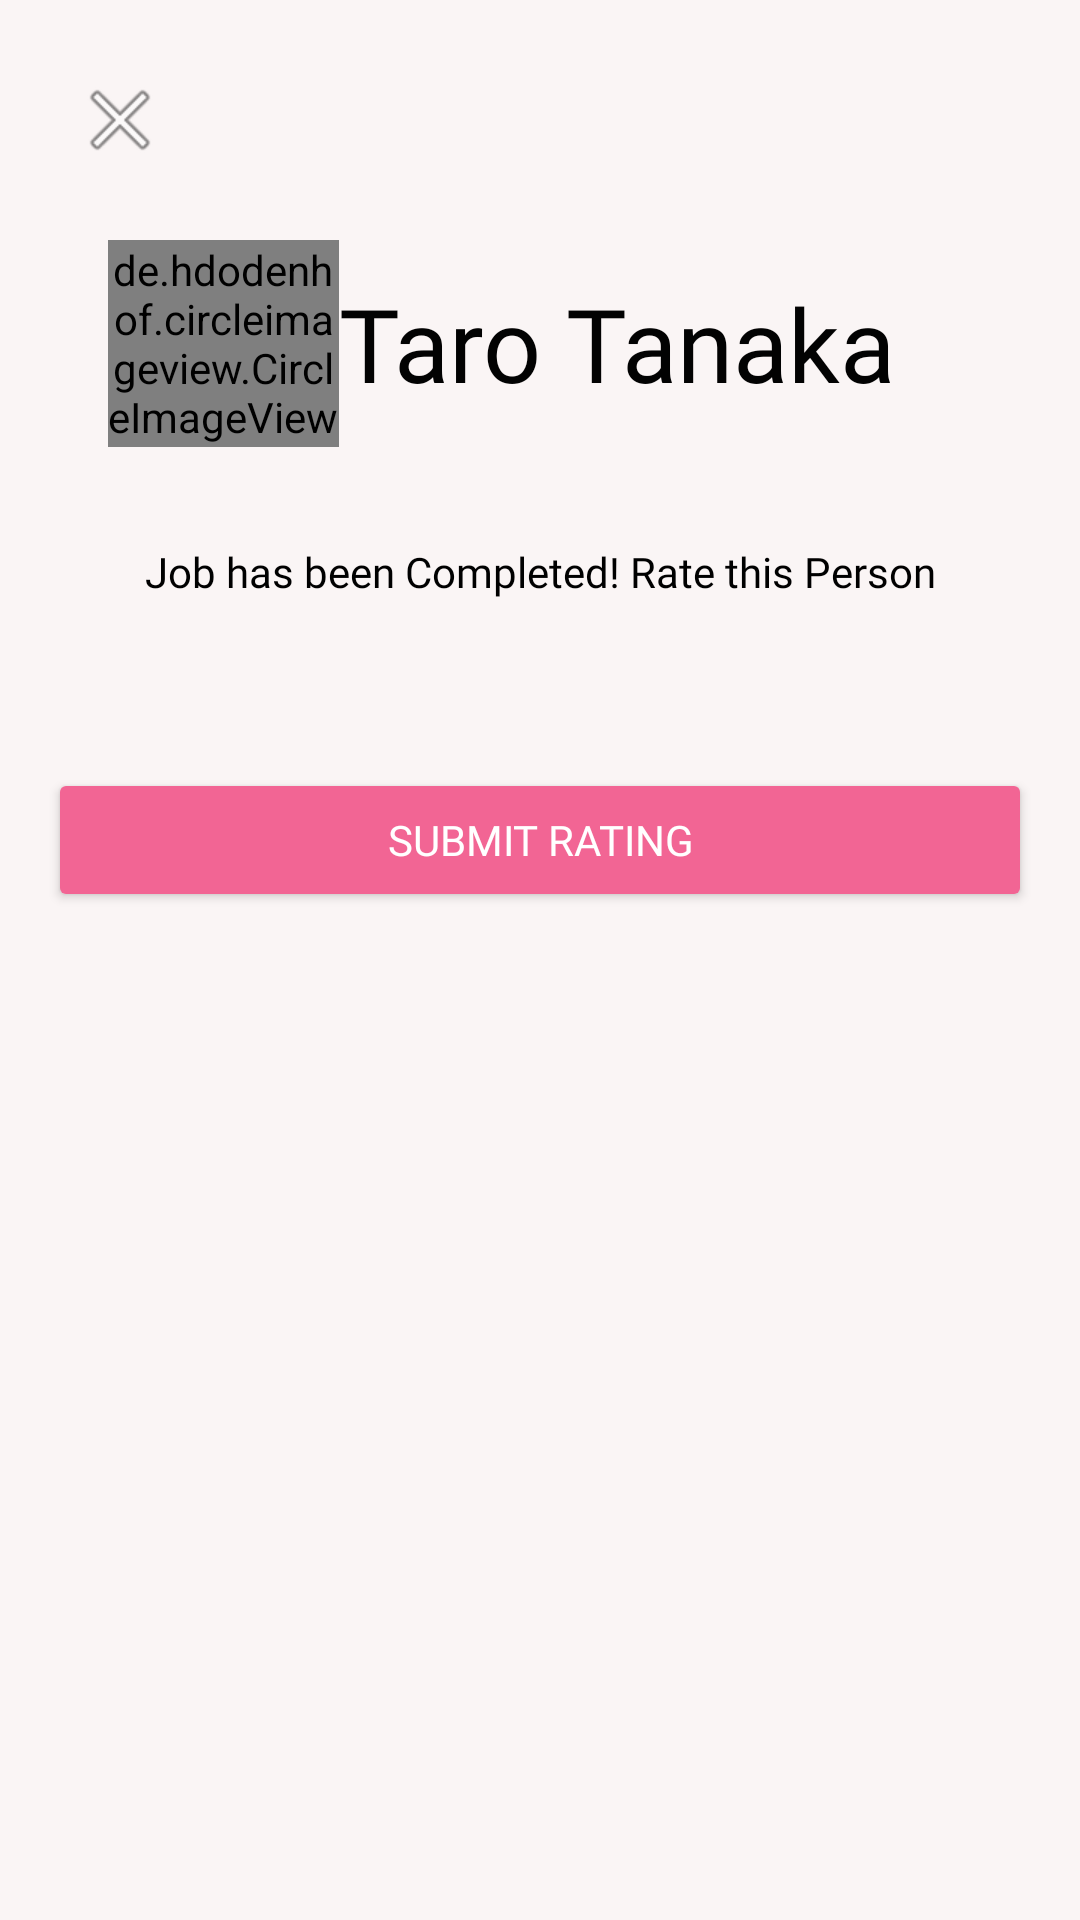

Where icons sit on this 1080px x 1920px app screen, as (x1, y1, x2, y2):
Exit: (90, 90, 150, 150)
